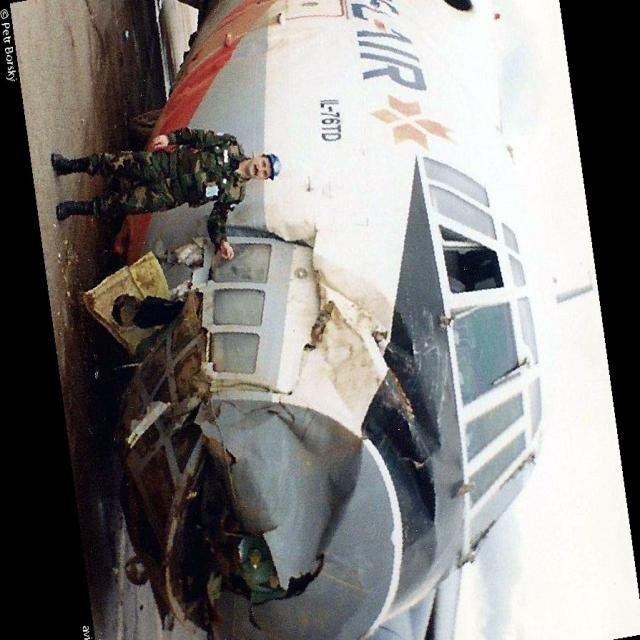dent: (289, 427, 380, 510)
